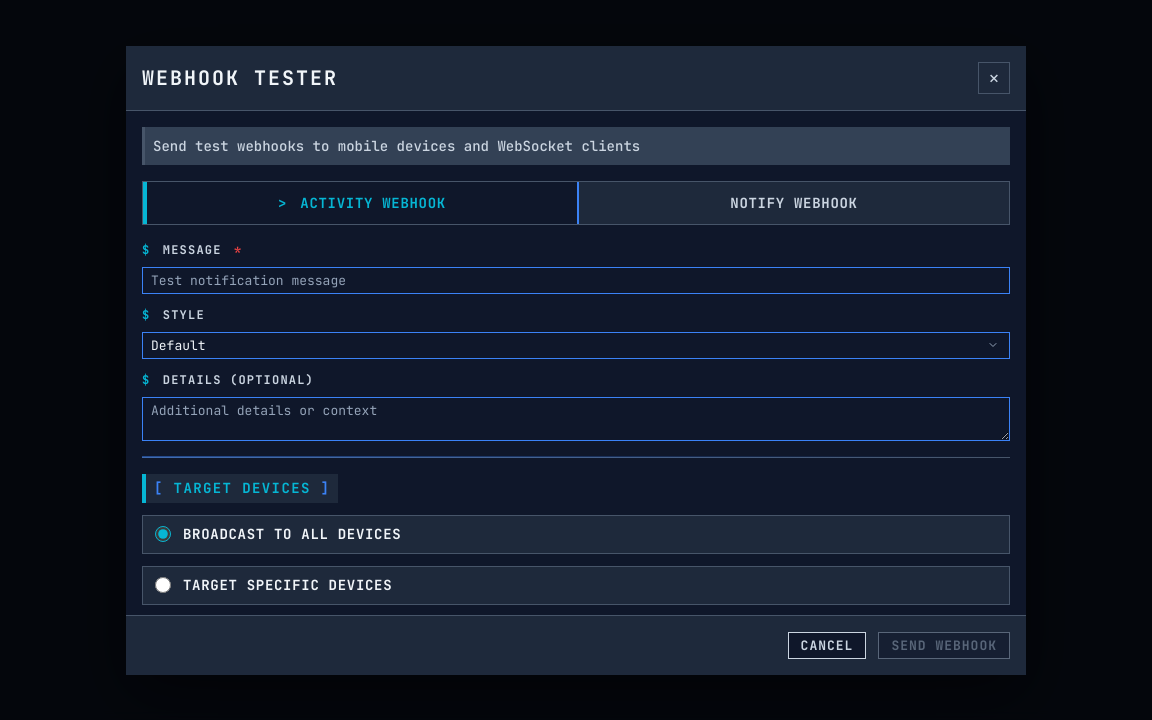
WebhookTesterModal › Payload Preview › should show payload preview with message
In the field with placeholder "Test notification message": (576, 280) [142, 267, 1010, 294], type "Preview test"
(page scrolled)
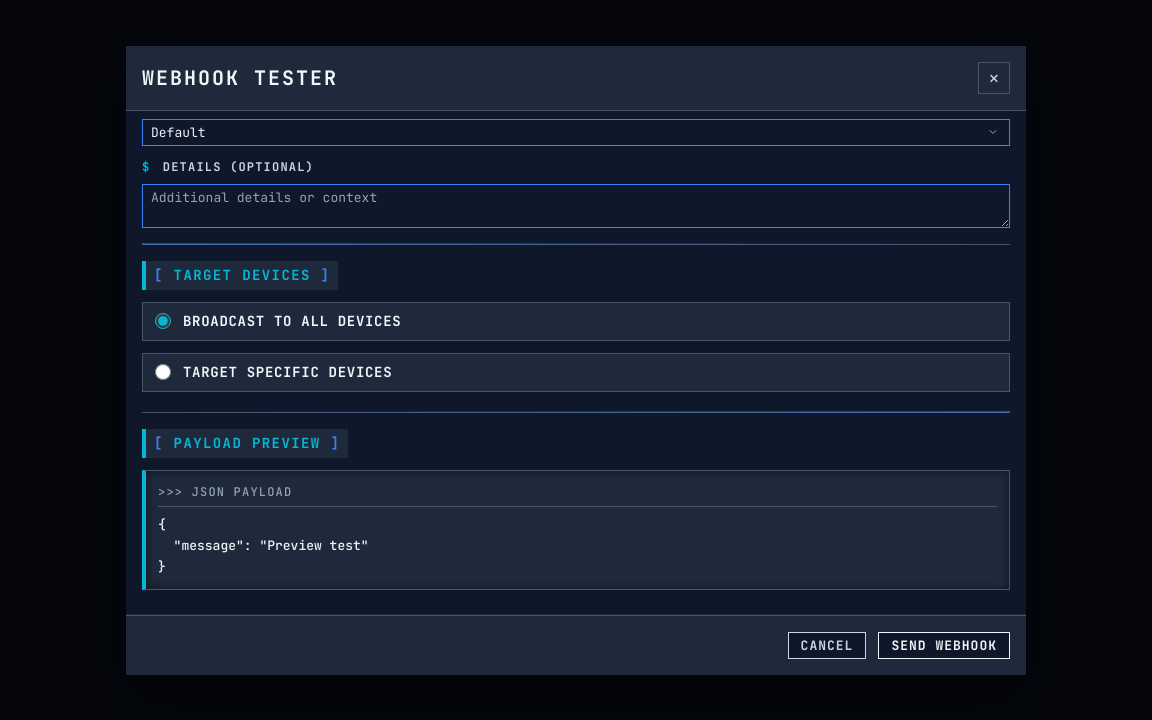
Now the text "{ \"message\": \"Preview test\" }" is shown, box [142, 470, 1010, 590]
